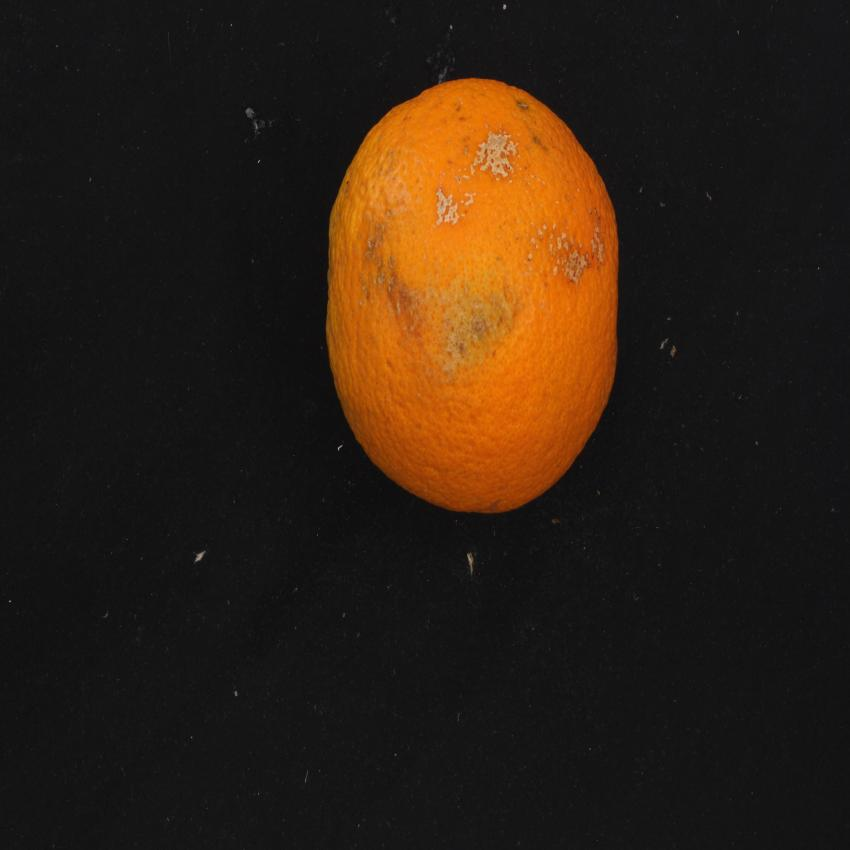Mal estado: (304, 54, 646, 535)
